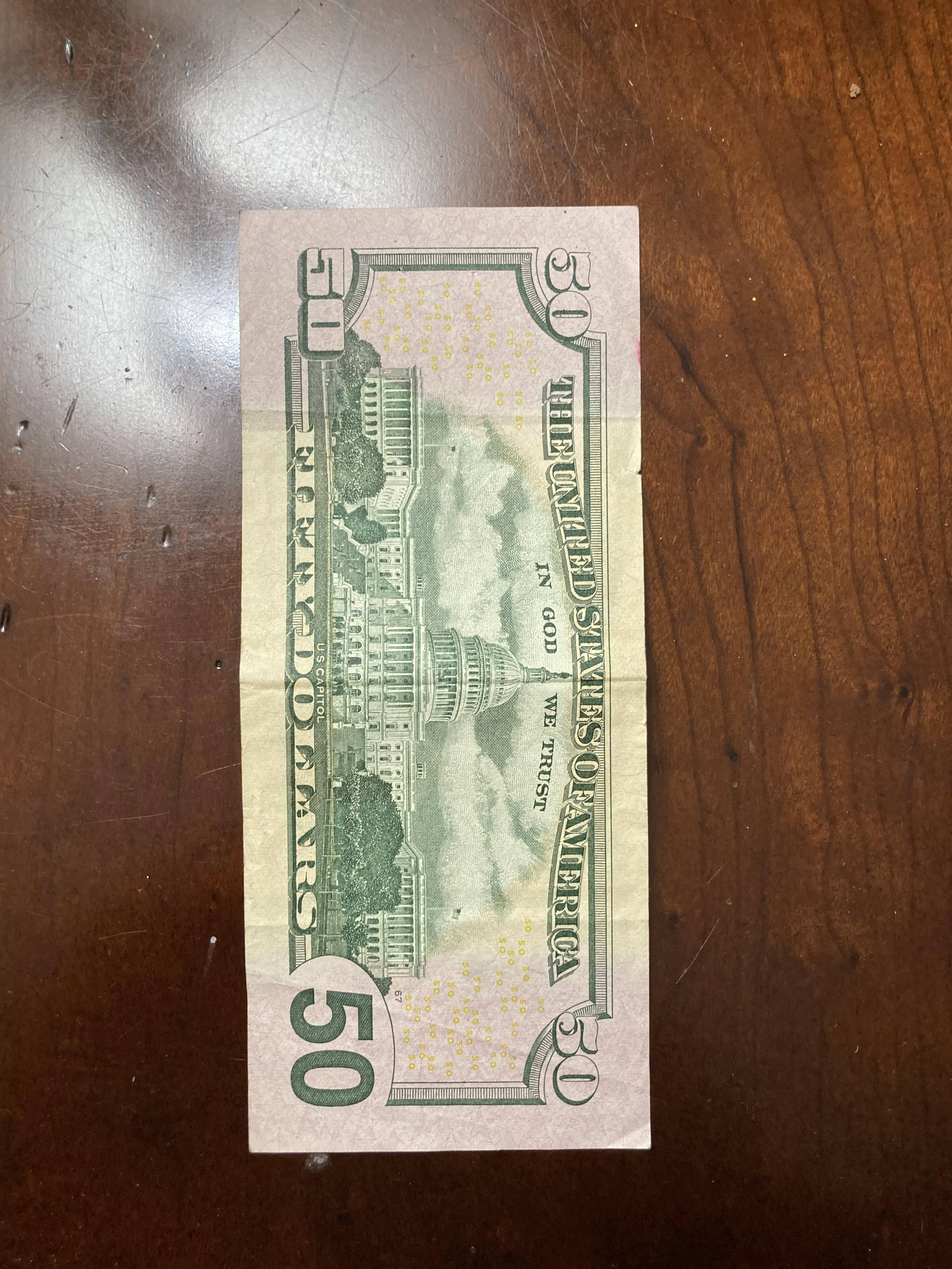fifty-back: (239, 201, 654, 1157)
